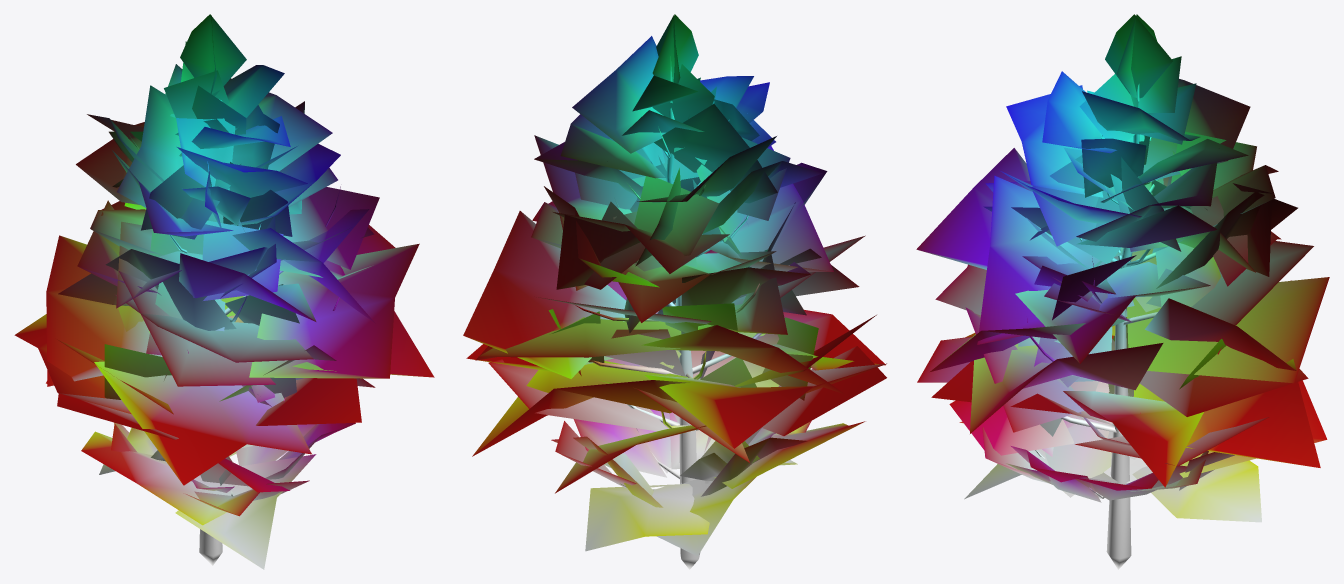
File: arden_forest_pine_small_01.fbx
3 renders of one model, left to right at view 1: azimuth 30°, elevation 25°; view 2: azimuth 150°, elevation 25°; view 3: azimuth 270°, elevation 25°, orthographic. The views are drawn at different scales.
Parts seen in each view (by area): view 1: arden_forest_pine_small_01; view 2: arden_forest_pine_small_01; view 3: arden_forest_pine_small_01.
Boxes of the visible parts, x1,y1,x2,y2 form: arden_forest_pine_small_01: (14,14,434,569); arden_forest_pine_small_01: (463,14,886,569); arden_forest_pine_small_01: (916,14,1329,569).
Size of the model in its own units: 3.82 by 3.62 by 5.4.
